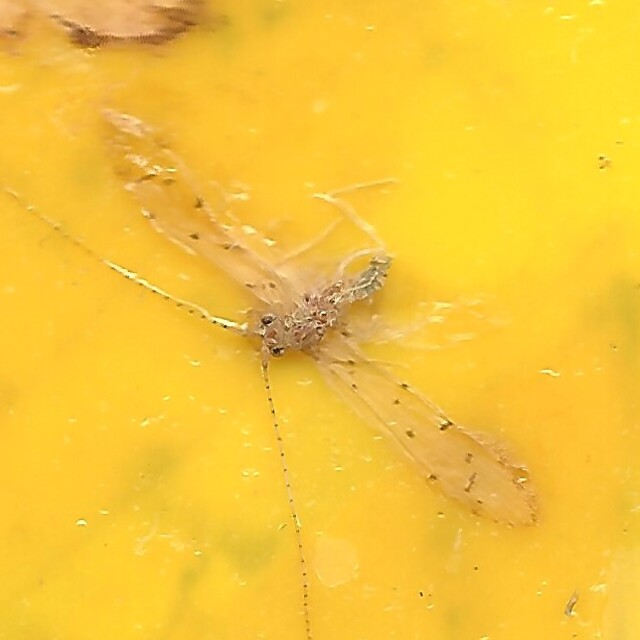Plecoptera: (99, 104, 541, 536)
